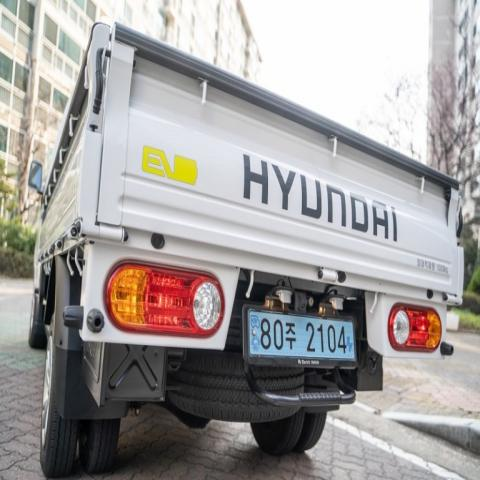LP: (241, 300, 366, 373)
